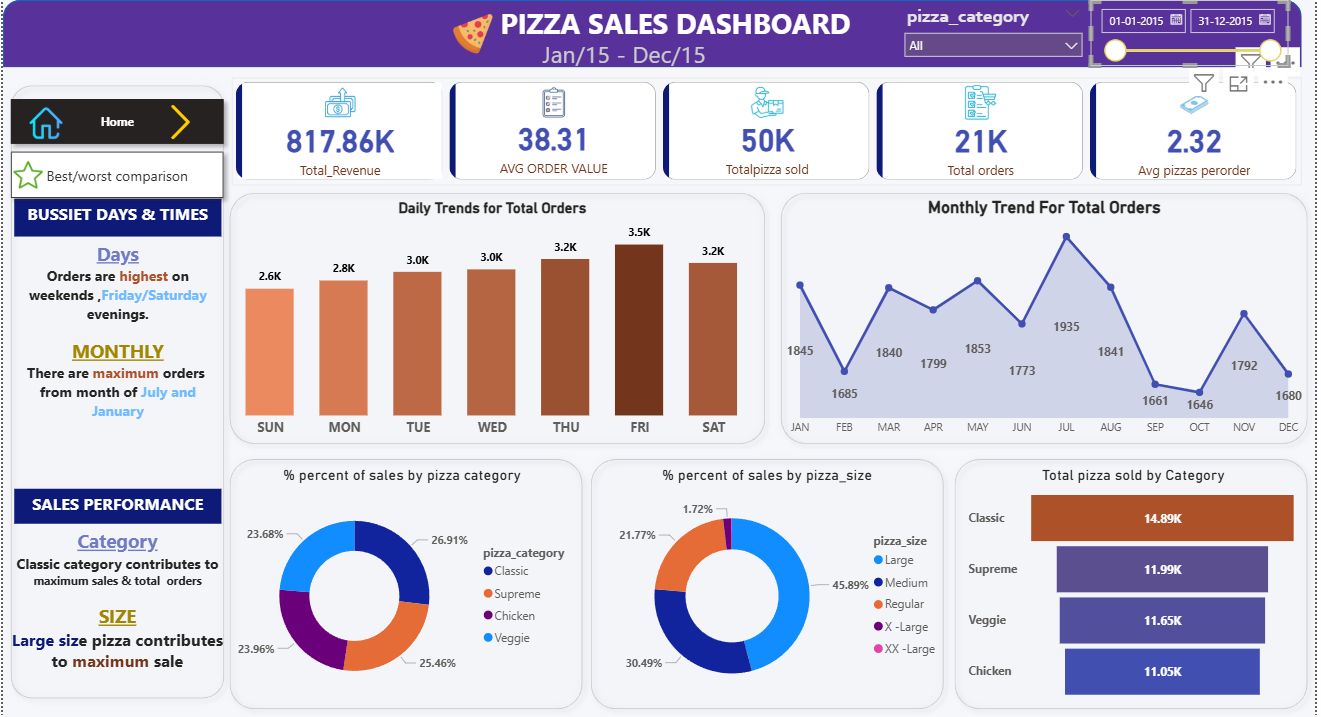

What the dashboard file says about the page in this screenshot:
{"tool":"powerbi","page":{"name":"Home","canvas":[1500,820],"ordinal":0},"visuals":[{"type":"shape","box":[33.2,0,1451.3,77.5],"z":0},{"type":"textbox","box":[300.6,0,975.5,75.6],"z":1000},{"type":"textbox","box":[662,38.7,671.3,77.5],"z":2000},{"type":"image","box":[531.1,1.8,57.2,73.8],"z":3000},{"type":"shape","box":[250,211.7,630,305],"z":4000},{"type":"columnChart","title":"Daily Trends for  Total Orders","fields":{"Category":["pizza_sales.Day_short"],"Y":["pizza_sales.Total orders"]},"box":[238.3,226.7,641.7,281.7],"z":5000},{"type":"shape","box":[250,516.2,421.2,303.8],"z":6000},{"type":"shape","box":[880,211.7,620,305],"z":7000},{"type":"stackedAreaChart","title":"Monthly Trend For Total Orders","fields":{"Y":["pizza_sales.Total orders"],"Category":["pizza_sales.Month_short"]},"box":[886.2,226.2,608.8,281.2],"z":8000},{"type":"donutChart","title":"% percent of sales by pizza category","fields":{"Category":["pizza_sales.pizza_category"],"Y":["pizza_sales.Total_Revenue"]},"box":[250,532.5,412.5,277.5],"z":9000},{"type":"shape","box":[1078.8,516.2,421.2,303.8],"z":10000},{"type":"shape","box":[662.5,516.2,421.2,303.8],"z":11000},{"type":"donutChart","title":"% percent of sales by pizza_size","fields":{"Y":["pizza_sales.Total_Revenue"],"Series":["pizza_sales.pizza_size"]},"box":[667.5,532.5,412.5,277.5],"z":12000},{"type":"funnel","title":"Total pizza sold by Category","fields":{"Y":["pizza_sales.Totalpizza sold"],"Category":["pizza_sales.pizza_category"]},"box":[1098.3,533.3,386.7,275],"z":13000},{"type":"shape","box":[0,89.1,261.8,718.6],"z":14000},{"type":"textbox","box":[13.3,226.7,236.7,43.3],"z":15000},{"type":"textbox","box":[13.3,270,236.7,238.3],"z":16000},{"type":"textbox","box":[0,598.3,261.7,210],"z":17000},{"type":"textbox","box":[13.3,558.3,236.7,40],"z":18000},{"type":"slicer","fields":{"Values":["pizza_sales.pizza_category"]},"box":[1020,0,223.3,75],"z":19000},{"type":"slicer","fields":{"Values":["pizza_sales.order_date"]},"box":[1243.3,0,226.7,75],"z":20000},{"type":"pageNavigator","box":[0,104.5,261.8,69.6],"z":21000},{"type":"image","box":[0,117,98.9,47.4],"z":22000},{"type":"cardVisual","fields":{"Data":["pizza_sales.Total_Revenue","pizza_sales.AVG ORDER VALUE","pizza_sales.Totalpizza sold","pizza_sales.Total orders","pizza_sales.Avg pizzas perorder"]},"box":[261.7,88.6,1222.8,122.4],"z":23000},{"type":"image","box":[156.2,114,94.3,50.7],"z":24000},{"type":"pageNavigator","box":[0,164.3,261.8,71],"z":25000},{"type":"image","box":[7,164.3,43.2,71],"z":25001}]}

Visuals, with their boxes on the page's 1500x820 design canvas (x1, y1, x2, y2). These are canvas units, not pixel positions in the 1321x717 screenshot, which may show the page scaled, cropped or inside an application window:
shape: Rect(33, 0, 1484, 78)
textbox: Rect(301, 0, 1276, 76)
textbox: Rect(662, 39, 1333, 116)
image: Rect(531, 2, 588, 76)
shape: Rect(250, 212, 880, 517)
"Daily Trends for  Total Orders" columnChart: Rect(238, 227, 880, 508)
shape: Rect(250, 516, 671, 820)
shape: Rect(880, 212, 1500, 517)
"Monthly Trend For Total Orders" stackedAreaChart: Rect(886, 226, 1495, 507)
"% percent of sales by pizza category" donutChart: Rect(250, 532, 662, 810)
shape: Rect(1079, 516, 1500, 820)
shape: Rect(662, 516, 1084, 820)
"% percent of sales by pizza_size" donutChart: Rect(668, 532, 1080, 810)
"Total pizza sold by Category" funnel: Rect(1098, 533, 1485, 808)
shape: Rect(0, 89, 262, 808)
textbox: Rect(13, 227, 250, 270)
textbox: Rect(13, 270, 250, 508)
textbox: Rect(0, 598, 262, 808)
textbox: Rect(13, 558, 250, 598)
slicer - pizza_sales.pizza_category: Rect(1020, 0, 1243, 75)
slicer - pizza_sales.order_date: Rect(1243, 0, 1470, 75)
pageNavigator: Rect(0, 104, 262, 174)
image: Rect(0, 117, 99, 164)
cardVisual - pizza_sales.Total_Revenue x pizza_sales.AVG ORDER VALUE: Rect(262, 89, 1484, 211)
image: Rect(156, 114, 250, 165)
pageNavigator: Rect(0, 164, 262, 235)
image: Rect(7, 164, 50, 235)
